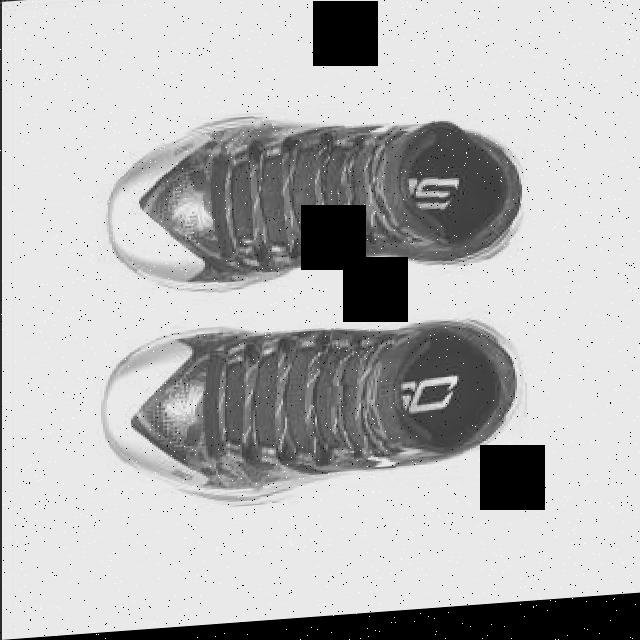shoe: (101, 310, 529, 519), (97, 98, 521, 302), (95, 322, 526, 510), (101, 114, 524, 297)
